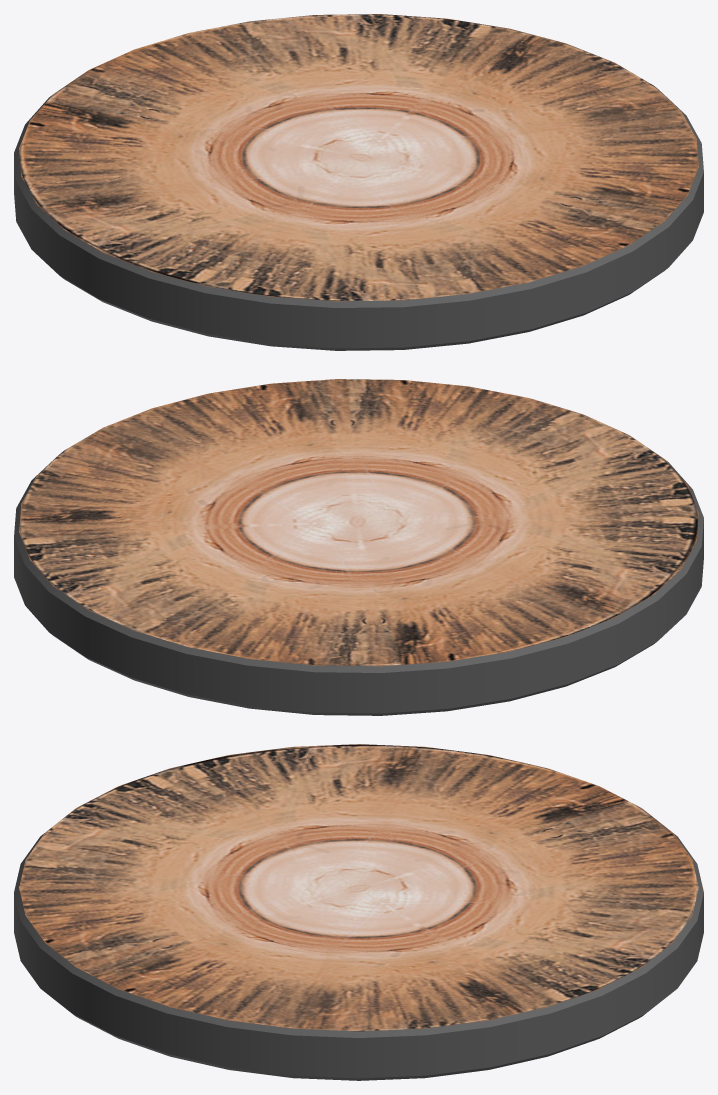
File: potterswheel.FBX
3 views of the same model, one above another, from view 1: azimuth 30°, elevation 25°; view 2: azimuth 150°, elevation 25°; view 3: azimuth 270°, elevation 25° (orthographic).
Parts seen in each view (by area): view 1: ChamferCyl01; view 2: ChamferCyl01; view 3: ChamferCyl01.
Part boxes in pixels (x1=…): ChamferCyl01: x1=14, y1=14, x2=703, y2=350; ChamferCyl01: x1=14, y1=379, x2=703, y2=715; ChamferCyl01: x1=14, y1=744, x2=703, y2=1080.
Size of the model in its own units: 73.97 by 5.86 by 73.97.
Materials: 2 (1 with a texture image).
